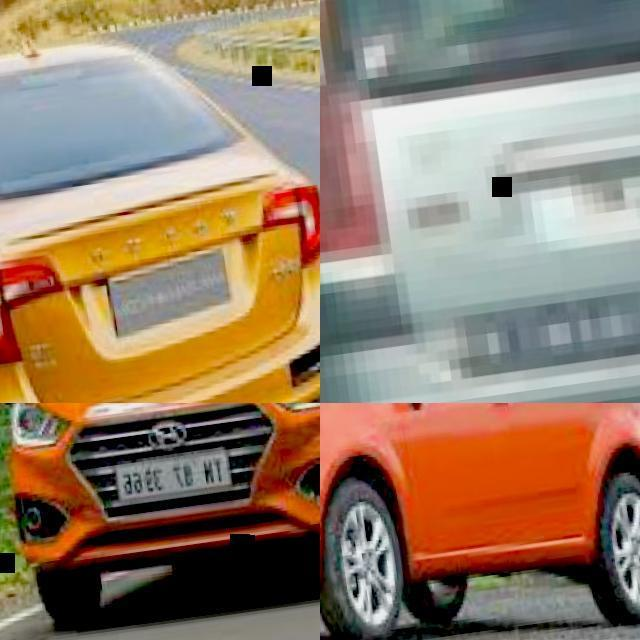car: (0, 10, 639, 639)
